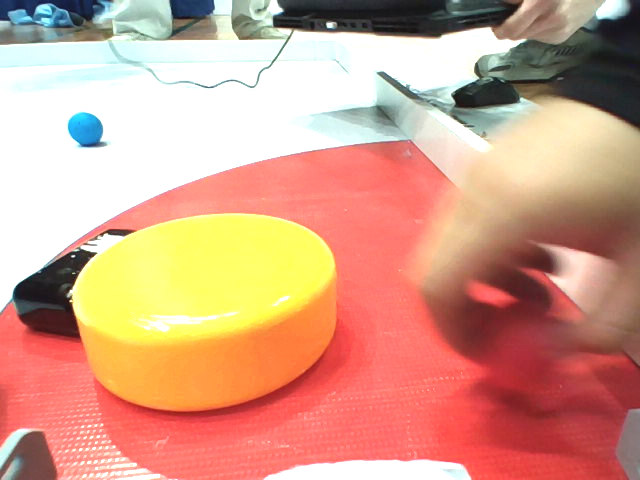black: (5, 216, 145, 340)
blue: (62, 103, 113, 153)
yellow: (71, 206, 339, 436)
